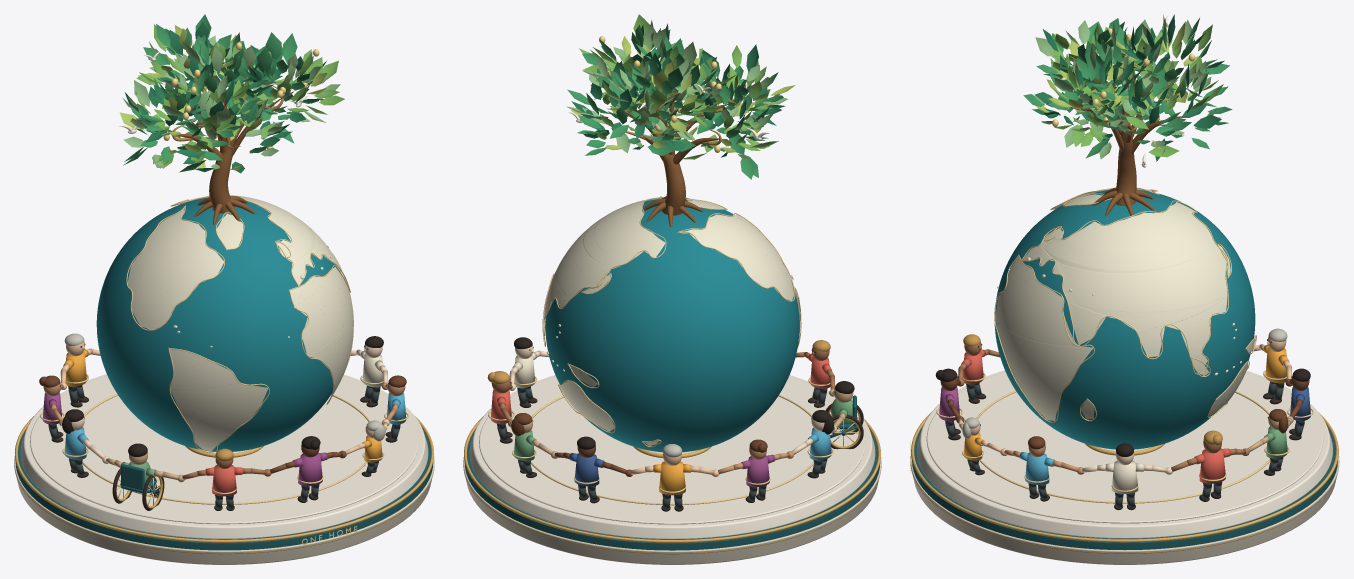
The model's file is common_ground.glb.
3 renders of one model, left to right at view 1: azimuth 30°, elevation 25°; view 2: azimuth 150°, elevation 25°; view 3: azimuth 270°, elevation 25°, orthographic. The views are drawn at different scales.
Visible parts, largest first — view 1: Earth • ocean sphere, Inset top surface, Upper limestone platform, Canopy • 0 • individual leaves, North America, Lower floating plinth, South America, Africa, Canopy • 1 • individual leaves, Canopy • 3 • individual leaves, Petrol blue reveal, Canopy • 2 • individual leaves (+14 smaller); view 2: Earth • ocean sphere, Inset top surface, Upper limestone platform, Canopy • 0 • individual leaves, Lower floating plinth, Europe and Asia, Canopy • 1 • individual leaves, Petrol blue reveal, Canopy • 3 • individual leaves, North America, Canopy • 2 • individual leaves, Upper brass bead (+9 smaller); view 3: Inset top surface, Earth • ocean sphere, Europe and Asia, Africa, Upper limestone platform, Canopy • 0 • individual leaves, Lower floating plinth, Petrol blue reveal, Canopy • 1 • individual leaves, Canopy • 3 • individual leaves, Canopy • 2 • individual leaves, Upper brass bead (+10 smaller).
Part boxes in pixels (box(x1,y1,x2,y2)): Earth • ocean sphere: box(96, 198, 341, 451); Inset top surface: box(30, 375, 418, 524); Upper limestone platform: box(20, 374, 428, 539); Canopy • 0 • individual leaves: box(123, 14, 326, 172); North America: box(127, 208, 223, 329); Lower floating plinth: box(14, 456, 434, 564); South America: box(169, 349, 268, 451); Africa: box(290, 267, 353, 402); Canopy • 1 • individual leaves: box(126, 24, 344, 168); Canopy • 3 • individual leaves: box(122, 36, 340, 169); Petrol blue reveal: box(15, 430, 433, 550); Canopy • 2 • individual leaves: box(125, 21, 319, 173); Earth • ocean sphere: box(545, 199, 799, 452); Inset top surface: box(479, 376, 865, 524); Upper limestone platform: box(469, 375, 875, 539); Canopy • 0 • individual leaves: box(567, 23, 785, 179); Lower floating plinth: box(463, 457, 881, 564); Europe and Asia: box(544, 197, 686, 327); Canopy • 1 • individual leaves: box(579, 14, 773, 159); Petrol blue reveal: box(464, 431, 880, 550); Canopy • 3 • individual leaves: box(566, 18, 787, 159); North America: box(680, 214, 793, 300); Canopy • 2 • individual leaves: box(571, 24, 781, 157); Upper brass bead: box(464, 417, 880, 542); Inset top surface: box(926, 371, 1323, 523); Earth • ocean sphere: box(994, 189, 1255, 449); Europe and Asia: box(1023, 202, 1227, 373); Africa: box(995, 256, 1092, 420); Upper limestone platform: box(917, 370, 1332, 538); Canopy • 0 • individual leaves: box(1023, 18, 1232, 161); Lower floating plinth: box(910, 454, 1339, 564); Petrol blue reveal: box(912, 427, 1337, 550); Canopy • 1 • individual leaves: box(1043, 23, 1223, 157); Canopy • 3 • individual leaves: box(1034, 19, 1211, 159); Canopy • 2 • individual leaves: box(1032, 14, 1221, 144); Upper brass bead: box(911, 413, 1338, 542).
Bounding box in the file's own units: 6.75 × 7.84 × 6.75.
